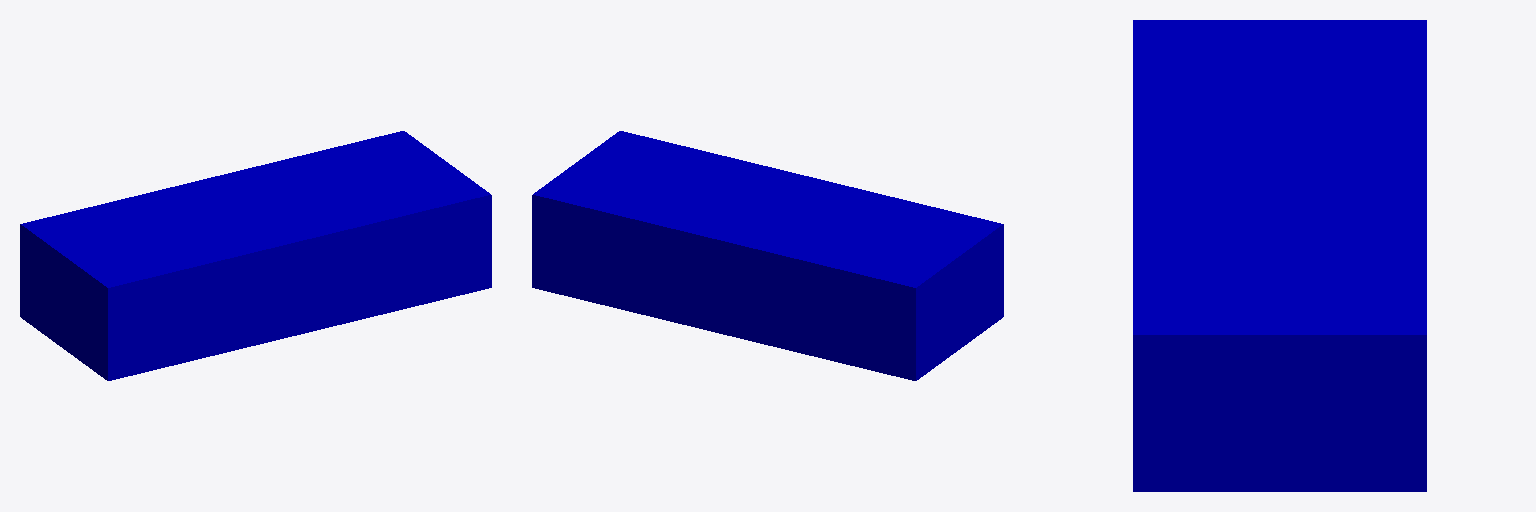
The robot description file, URDF, robot "lgp_car":
<?xml version="1.0"?>
<robot name="lgp_car">
  <material name="blue">
    <color rgba="0 0 0.8 1"/>
  </material>

  <link name="lgp_car">
    <visual>
      <geometry>
  	<box size="4.3 1.7 1.0"/>
      </geometry>
      <origin xyz="1.25 0 0.6"/>
      <material name="blue"/>
    </visual>
  </link>
</robot>

--- What the picture shows (computed from the rendered views, not written in the file) ---
The picture shows the robot from 3 angles, left to right: view 1: azimuth 30°, elevation 25°; view 2: azimuth 150°, elevation 25°; view 3: azimuth 270°, elevation 25°; orthographic projection.
Model lgp_car with 1 links and 0 joints (none), rooted at lgp_car, posed all joints at 0.
Visible links, largest first — view 1: lgp_car; view 2: lgp_car; view 3: lgp_car.
Link boxes in pixels (bbox=[...]): lgp_car: bbox=[20, 131, 491, 380]; lgp_car: bbox=[532, 131, 1003, 380]; lgp_car: bbox=[1133, 20, 1426, 491].
Size in the robot's own frame: 4.3 by 1.7 by 1 metres.
Geometry: primitives only (box / cylinder / sphere), no mesh files.